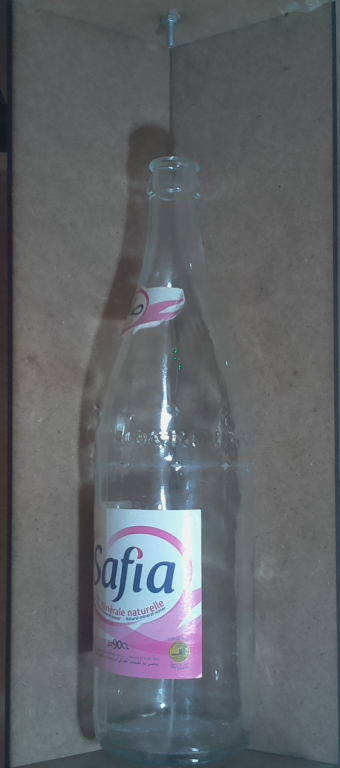Glass: (85, 147, 258, 766)
